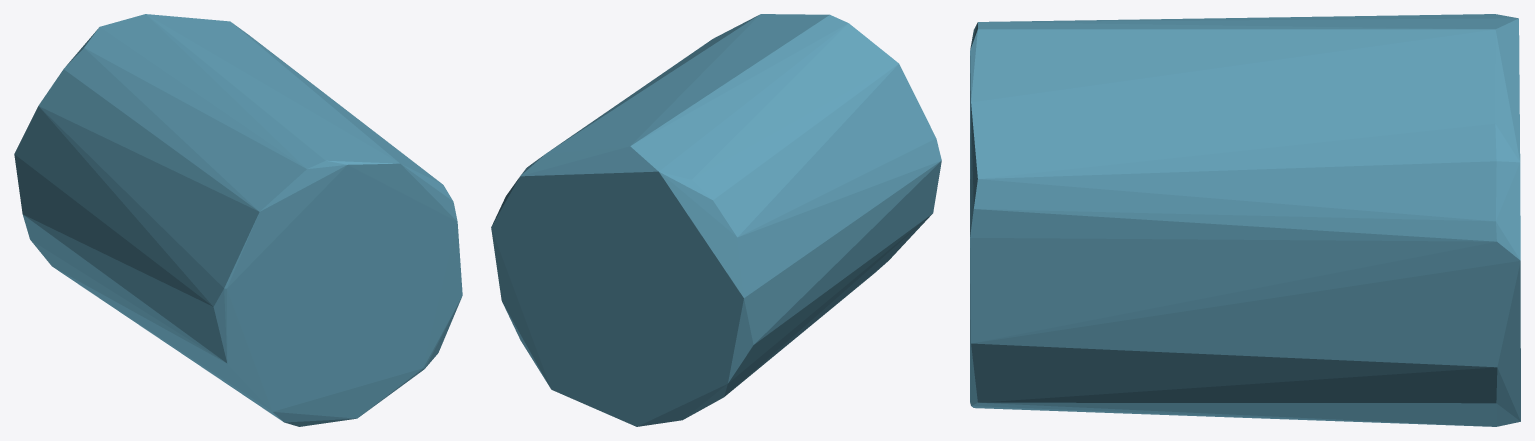
The model's file is food_beverage_coffeeCup_o01.glb.
3 views of the same model, side by side, from view 1: azimuth 30°, elevation 25°; view 2: azimuth 150°, elevation 25°; view 3: azimuth 270°, elevation 25° (orthographic). The views are drawn at different scales.
Visible parts, largest first — view 1: geometry_0; view 2: geometry_0; view 3: geometry_0.
Part boxes in pixels (x1,y1,x2,y2): geometry_0: [14, 14, 462, 426]; geometry_0: [491, 14, 941, 426]; geometry_0: [970, 14, 1520, 426].
Size of the model in its own units: 0.3471 by 0.3603 by 0.4799.
